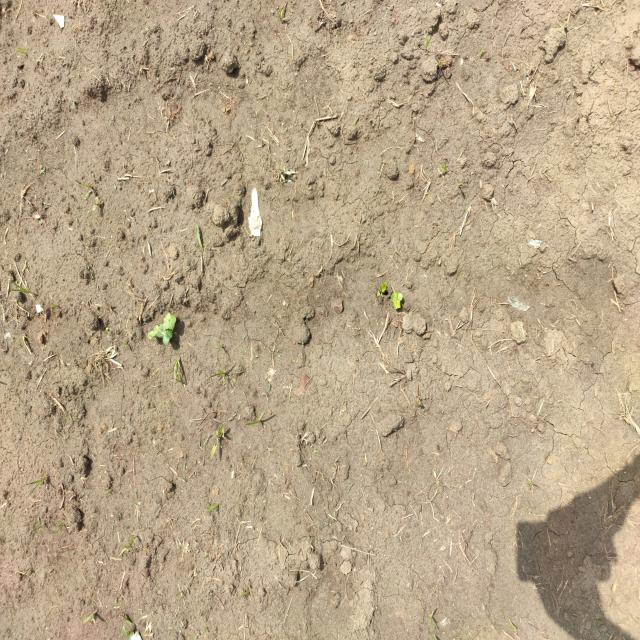seedling_s1: (162, 329, 173, 345), (148, 324, 159, 339), (167, 315, 176, 329), (163, 313, 170, 329), (157, 324, 165, 338), (391, 292, 402, 302), (394, 300, 401, 309)
